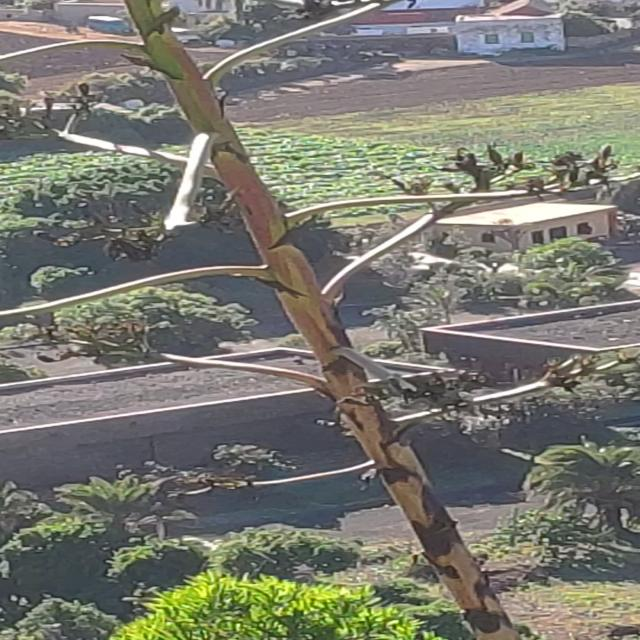Palm-Trees: (538, 444, 640, 534)
